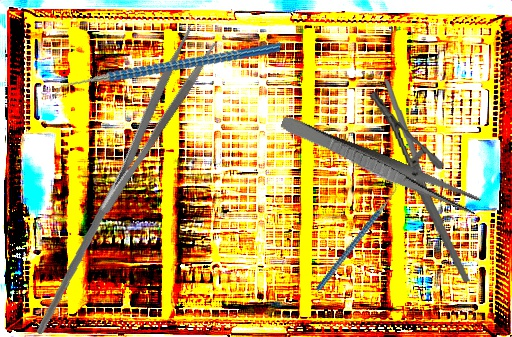Chopper: (49, 8, 282, 137), (23, 143, 169, 334), (289, 178, 425, 292)
Dressing Forceps: (80, 26, 220, 217), (276, 113, 483, 218)
Needle Holder: (367, 80, 471, 293), (384, 77, 445, 228)
